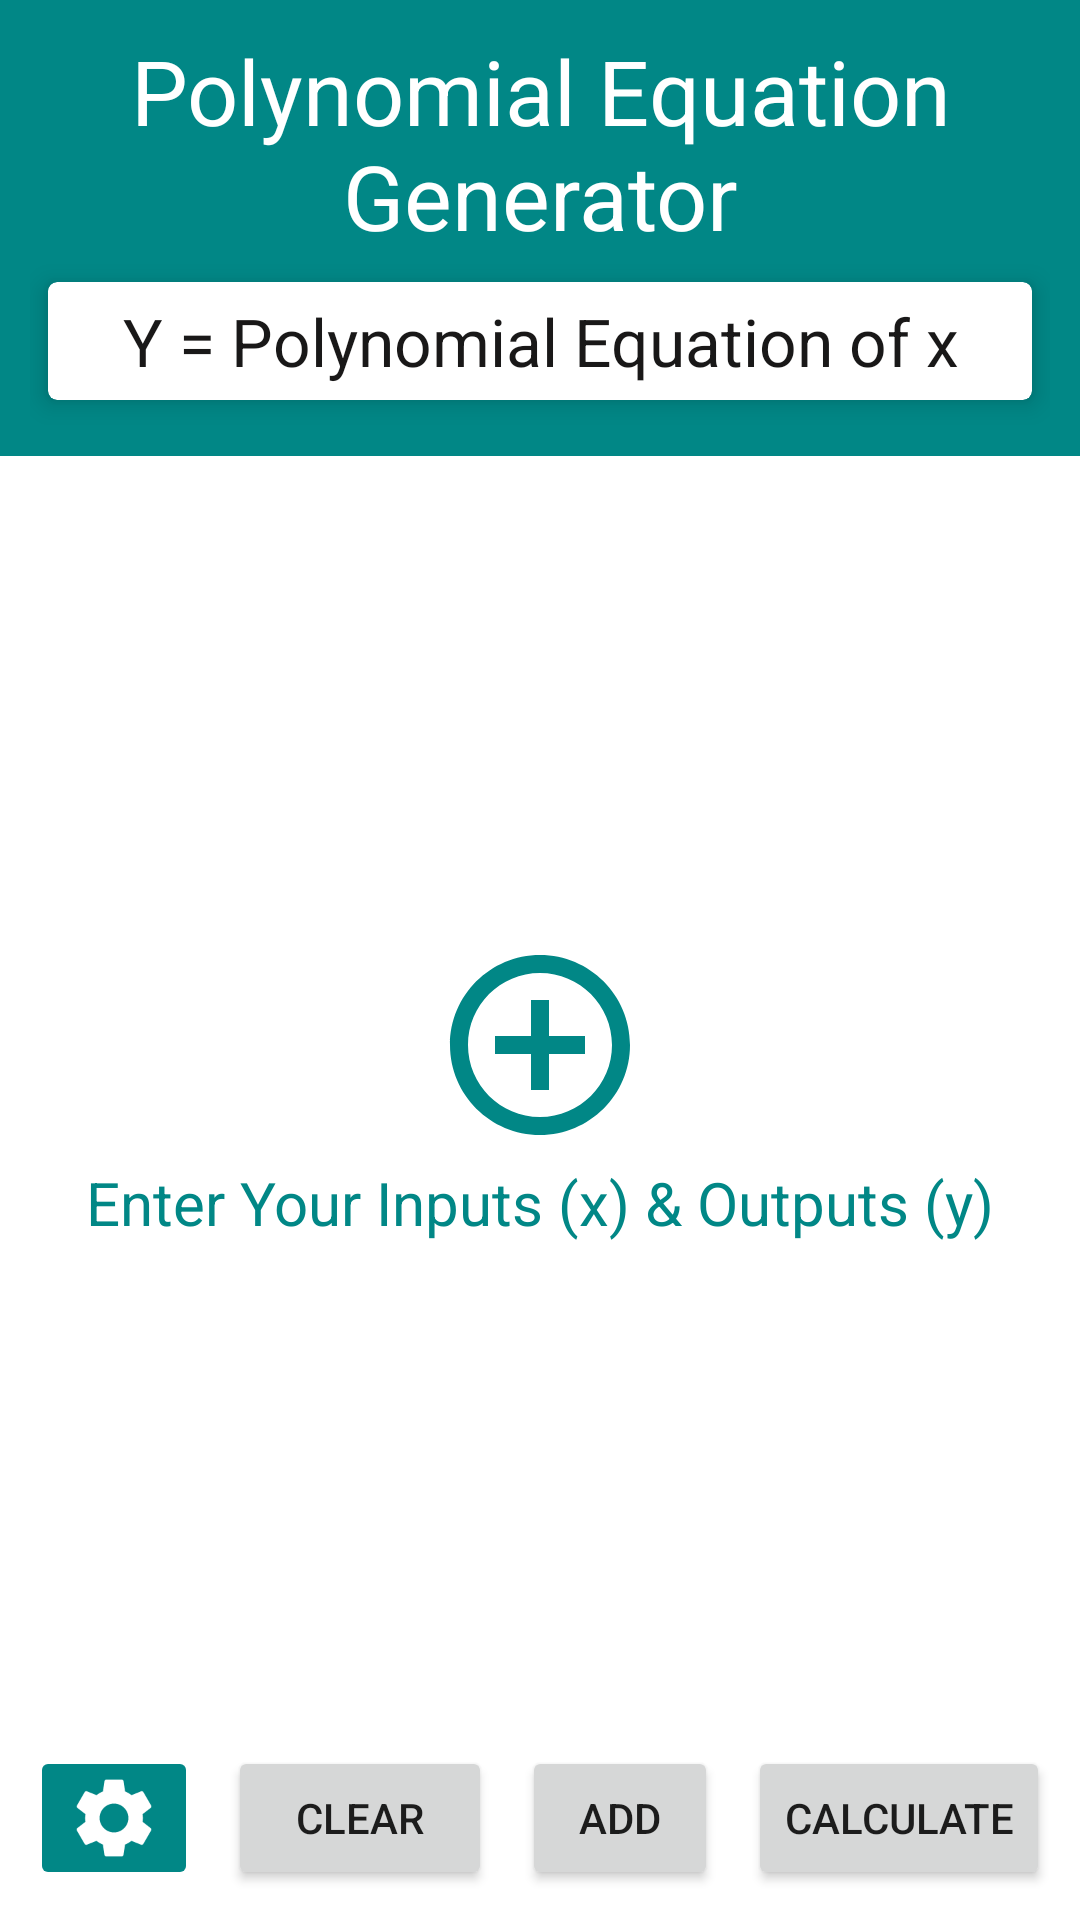

Icon click points for this 1080×1920 phone screenshot, format (x=x, y=y):
Settings: (x=114, y=1818)
